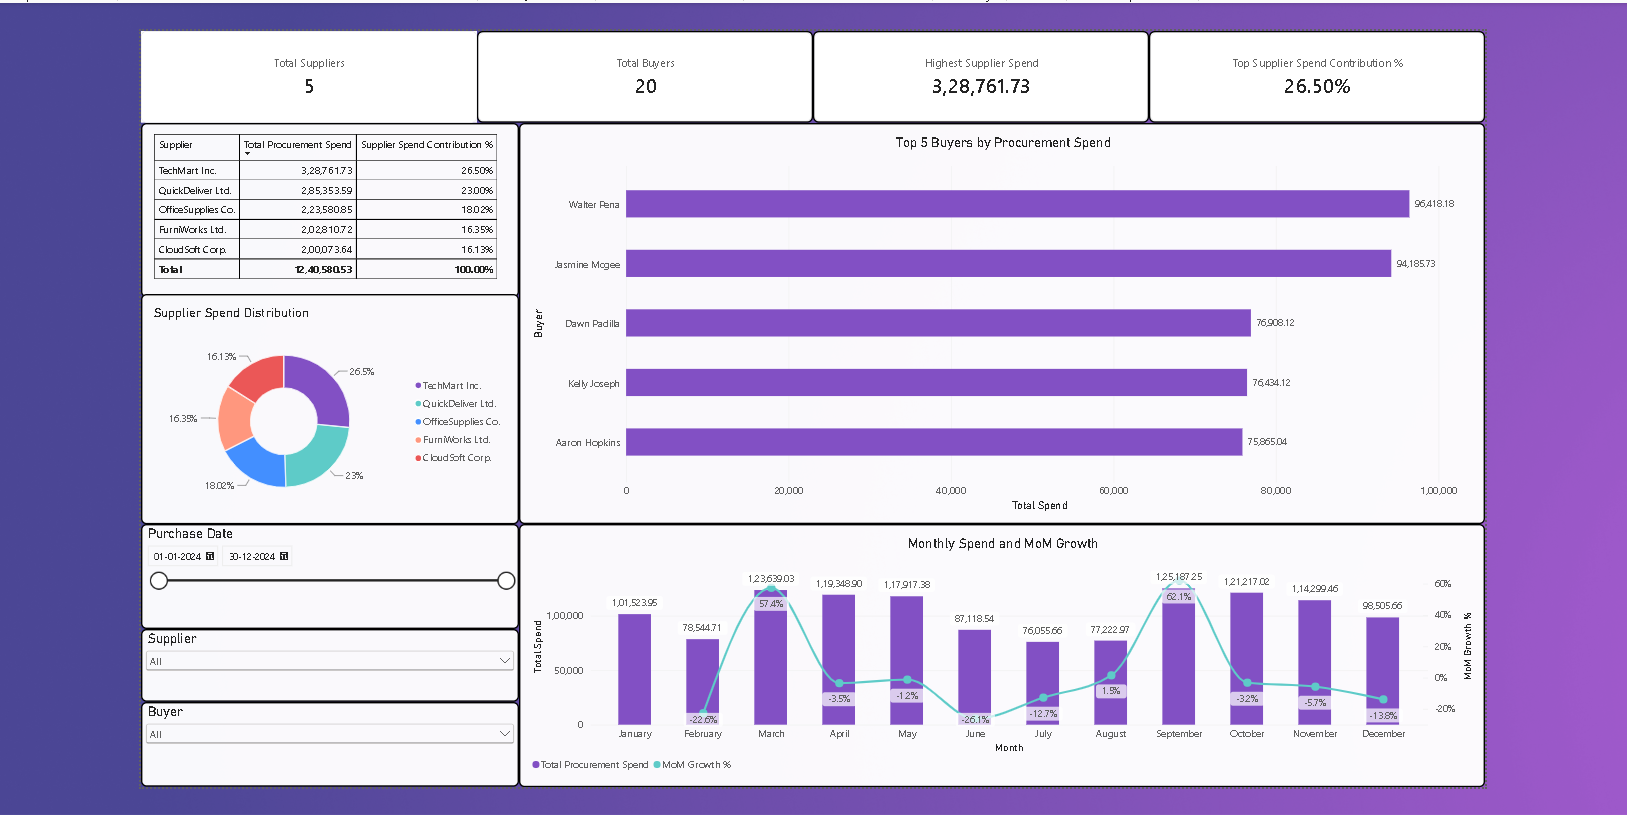

What the dashboard file says about the page in this screenshot:
{"tool":"powerbi","page":{"name":"Supplier & Buyer Analysis","canvas":[1920,1080],"ordinal":1},"visuals":[{"type":"cardVisual","fields":{"Data":["Count(Fact Purchases.Buyer)"]},"box":[480,0,480,131.4],"z":1000},{"type":"cardVisual","fields":{"Data":["Fact Purchases.Highest Supplier Spend"]},"box":[960,0,480,131.4],"z":2000},{"type":"cardVisual","fields":{"Data":["Fact Purchases.Top Supplier Spend Contribution %"]},"box":[1440,0,480,131.4],"z":3000},{"type":"tableEx","fields":{"Values":["DimSupplier.Supplier","Fact Purchases.Total Procurement Spend","Fact Purchases.Supplier Spend Contribution %"]},"box":[0,131.4,540,248.6],"z":4000},{"type":"barChart","title":"Top 5 Buyers by Procurement Spend","fields":{"Category":["DimBuyer.Buyer"],"Y":["Fact Purchases.Total Procurement Spend"]},"box":[540,131.4,1380,572.9],"z":5000},{"type":"donutChart","title":"Supplier Spend Distribution","fields":{"Category":["DimSupplier.Supplier"],"Y":["Fact Purchases.Total Procurement Spend"]},"box":[0,375.7,540,328.6],"z":6000},{"type":"lineClusteredColumnComboChart","title":"Monthly Spend and MoM Growth","fields":{"Category":["DimDate.Date.Variation.Date Hierarchy.Month"],"Y":["Fact Purchases.Total Procurement Spend"],"Y2":["Fact Purchases.MoM Growth %"]},"box":[540,704.3,1380,375.7],"z":7000},{"type":"slicer","fields":{"Values":["DimDate.Date"]},"box":[0,704.3,540,150],"z":8000},{"type":"slicer","fields":{"Values":["DimSupplier.Supplier"]},"box":[0,854.3,540,104.3],"z":9000},{"type":"slicer","fields":{"Values":["DimBuyer.Buyer"]},"box":[0,958.6,540,121.4],"z":10000},{"type":"cardVisual","fields":{"Data":["Fact Purchases.Total Suppliers"]},"box":[0,0,480,131.4],"z":10001}]}

Visuals, with their boxes on the page's 1920x1080 design canvas (x1, y1, x2, y2). These are canvas units, not pixel positions in the 1627x815 screenshot, which may show the page scaled, cropped or inside an application window:
cardVisual - Count(Fact Purchases.Buyer): bbox=[480, 0, 960, 131]
cardVisual - Fact Purchases.Highest Supplier Spend: bbox=[960, 0, 1440, 131]
cardVisual - Fact Purchases.Top Supplier Spend Contribution %: bbox=[1440, 0, 1920, 131]
tableEx - DimSupplier.Supplier x Fact Purchases.Total Procurement Spend: bbox=[0, 131, 540, 380]
"Top 5 Buyers by Procurement Spend" barChart: bbox=[540, 131, 1920, 704]
"Supplier Spend Distribution" donutChart: bbox=[0, 376, 540, 704]
"Monthly Spend and MoM Growth" lineClusteredColumnComboChart: bbox=[540, 704, 1920, 1080]
slicer - DimDate.Date: bbox=[0, 704, 540, 854]
slicer - DimSupplier.Supplier: bbox=[0, 854, 540, 959]
slicer - DimBuyer.Buyer: bbox=[0, 959, 540, 1080]
cardVisual - Fact Purchases.Total Suppliers: bbox=[0, 0, 480, 131]
